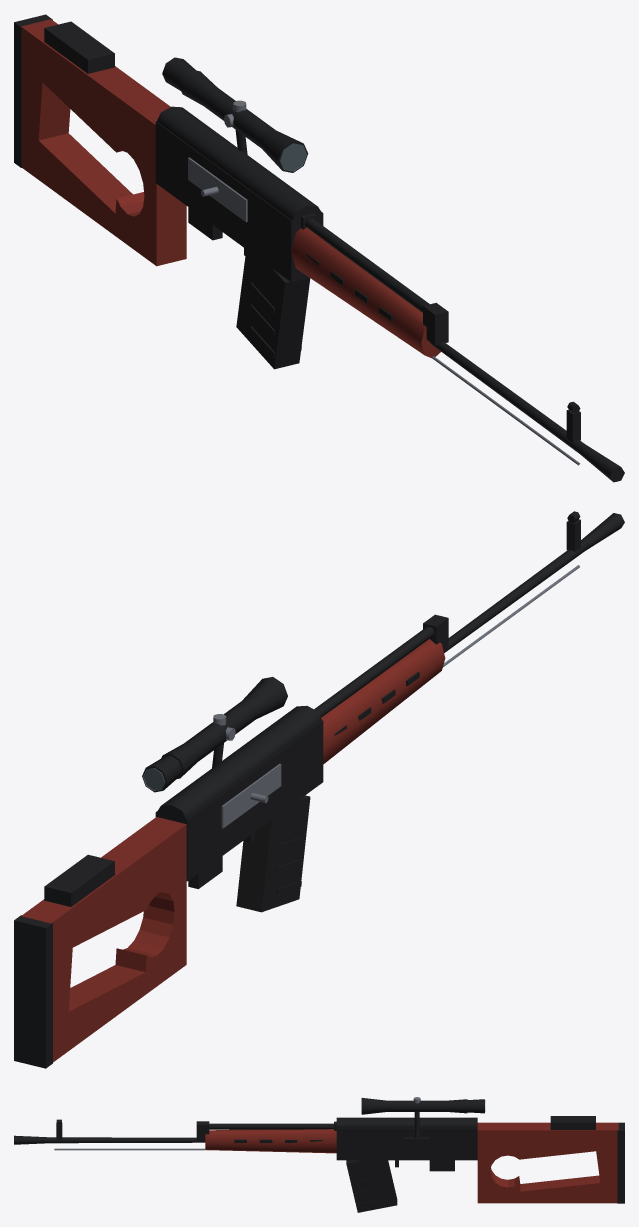
Rendered from dragunov-svd-sniper-rifle.glb.
3 views of the same model, one above another, from view 1: azimuth 30°, elevation 25°; view 2: azimuth 150°, elevation 25°; view 3: azimuth 270°, elevation 25° (orthographic). The views are drawn at different scales.
Parts seen in each view (by area): view 1: Mesh_SVD_Stock, Mesh_Receiver, Mesh_Handguard, Mesh_Magazine, Mesh_ReceiverCover, Mesh_CheekPad, Mesh_Barrel, Mesh_GasTube, Mesh_ScopeTube, Mesh_ScopeFrontBell, Mesh_BoltCarrier, Mesh_Buttplate (+3 smaller); view 2: Mesh_SVD_Stock, Mesh_Receiver, Mesh_Buttplate, Mesh_Magazine, Mesh_Handguard, Mesh_ReceiverCover, Mesh_CheekPad, Mesh_Barrel, Mesh_GasTube, Mesh_ScopeTube, Mesh_BoltCarrier, Mesh_ScopeFrontBell (+1 smaller); view 3: Mesh_SVD_Stock, Mesh_Receiver, Mesh_Handguard, Mesh_Magazine, Mesh_ReceiverCover, Mesh_Barrel, Mesh_GasTube, Mesh_ScopeTube, Mesh_Buttplate, Mesh_CheekPad, Mesh_CleaningRod, Mesh_ScopeMountBase (+6 smaller).
Part boxes in pixels (x1,y1,x2,y2): Mesh_SVD_Stock: (21,19,186,266); Mesh_Receiver: (155,121,323,282); Mesh_Handguard: (291,227,440,358); Mesh_Magazine: (236,249,310,369); Mesh_ReceiverCover: (156,106,322,227); Mesh_CheekPad: (44,21,114,73); Mesh_Barrel: (430,342,585,454); Mesh_GasTube: (305,218,429,312); Mesh_ScopeTube: (201,86,275,148); Mesh_ScopeFrontBell: (259,129,308,172); Mesh_BoltCarrier: (188,157,247,222); Mesh_Buttplate: (14,14,52,167); Mesh_SVD_Stock: (21,817,186,1062); Mesh_Receiver: (155,720,323,881); Mesh_Buttplate: (14,915,52,1068); Mesh_Magazine: (236,795,310,912); Mesh_Handguard: (321,639,445,764); Mesh_ReceiverCover: (156,705,322,819); Mesh_CheekPad: (44,854,114,906); Mesh_Barrel: (444,540,588,652); Mesh_GasTube: (314,626,434,717); Mesh_ScopeTube: (184,700,258,761); Mesh_BoltCarrier: (221,763,281,828); Mesh_ScopeFrontBell: (242,677,287,719); Mesh_SVD_Stock: (477,1122,618,1203); Mesh_Receiver: (336,1128,477,1160); Mesh_Handguard: (205,1129,336,1153); Mesh_Magazine: (346,1160,397,1212); Mesh_ReceiverCover: (336,1117,477,1127); Mesh_Barrel: (49,1137,205,1143); Mesh_GasTube: (209,1123,333,1129); Mesh_ScopeTube: (387,1100,447,1111); Mesh_Buttplate: (617,1122,624,1203); Mesh_CheekPad: (550,1116,595,1129); Mesh_CleaningRod: (54,1148,205,1150); Mesh_ScopeMountBase: (404,1137,429,1152).
Bounding box in the file's own units: 0.068 × 0.2501 × 1.21.
